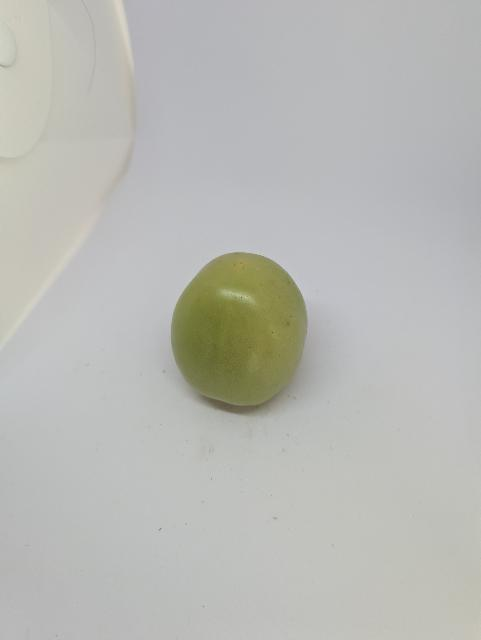green: (148, 227, 329, 419)
